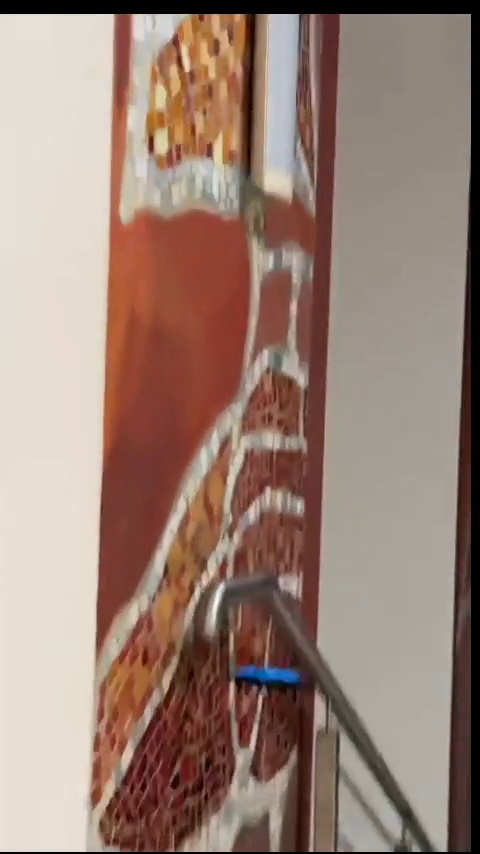drone: (229, 665, 301, 692)
